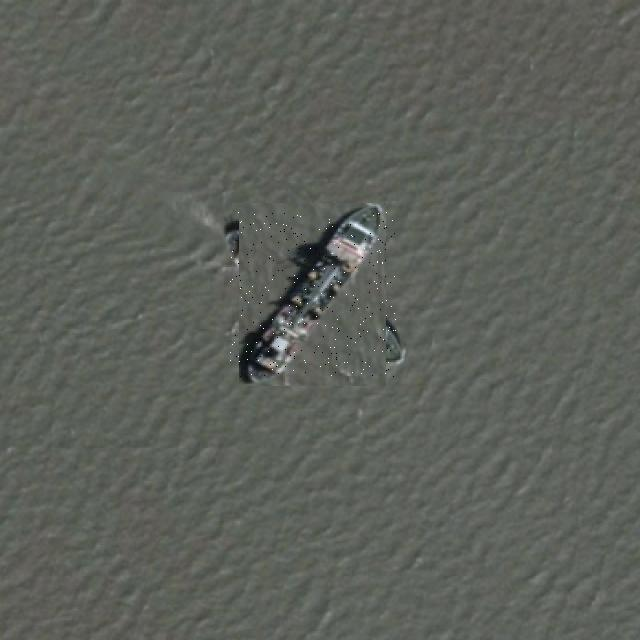boat: (230, 212, 396, 377)
